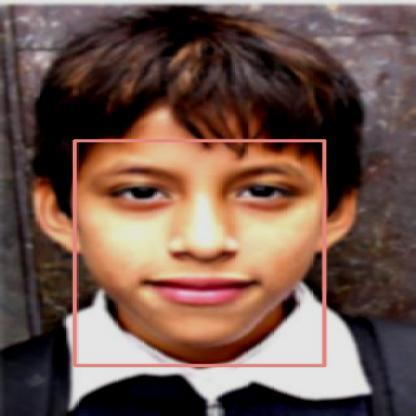without_mask: (74, 140, 324, 365)
